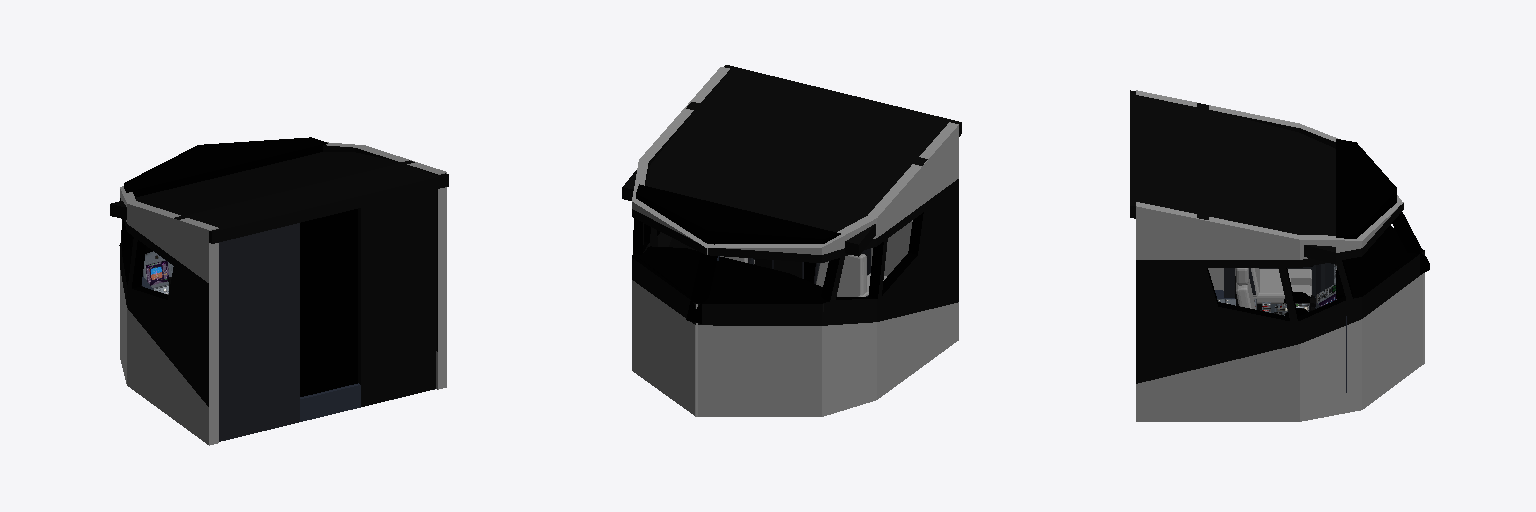
The picture shows the model from 3 angles: view 1: azimuth 30°, elevation 25°; view 2: azimuth 150°, elevation 25°; view 3: azimuth 270°, elevation 25°; orthographic projection.
Parts seen in each view (by area): view 1: Box001, Box020, Box021, Box004, Box023, Box003, Box010, Box007; view 2: Box001, Box004, Box003, ChamferBox001, ChamferBox002, Box006, ChamferBox009; view 3: Box001, Box004, Box003, ChamferBox001, ChamferBox002, Box006, Box018, Box009, ChamferBox005.
Boxes of the visible parts, x1,y1,x2,y2 form: Box001: [120, 142, 446, 445]; Box020: [219, 223, 299, 441]; Box021: [358, 189, 436, 406]; Box004: [110, 152, 448, 243]; Box023: [300, 209, 357, 396]; Box003: [124, 137, 327, 197]; Box010: [225, 383, 434, 440]; Box007: [119, 245, 173, 294]; Box001: [632, 67, 958, 416]; Box004: [622, 65, 961, 256]; Box003: [636, 184, 840, 243]; ChamferBox001: [638, 246, 823, 302]; ChamferBox002: [816, 254, 866, 296]; Box006: [686, 241, 717, 323]; ChamferBox009: [871, 220, 912, 275]; Box001: [1136, 90, 1424, 421]; Box004: [1130, 90, 1335, 264]; Box003: [1336, 139, 1396, 238]; ChamferBox001: [1336, 227, 1415, 298]; ChamferBox002: [1251, 268, 1311, 303]; Box006: [1392, 212, 1429, 274]; Box018: [1224, 263, 1333, 297]; Box009: [1262, 284, 1336, 315]; ChamferBox005: [1235, 268, 1255, 309].
Size of the model in its own units: 19.88 by 17.2 by 21.72.
11 materials, 2 textured.